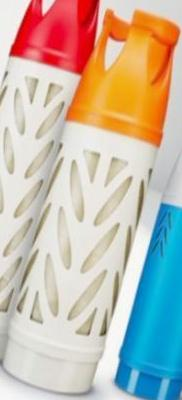cylinder: (1, 1, 182, 400)
